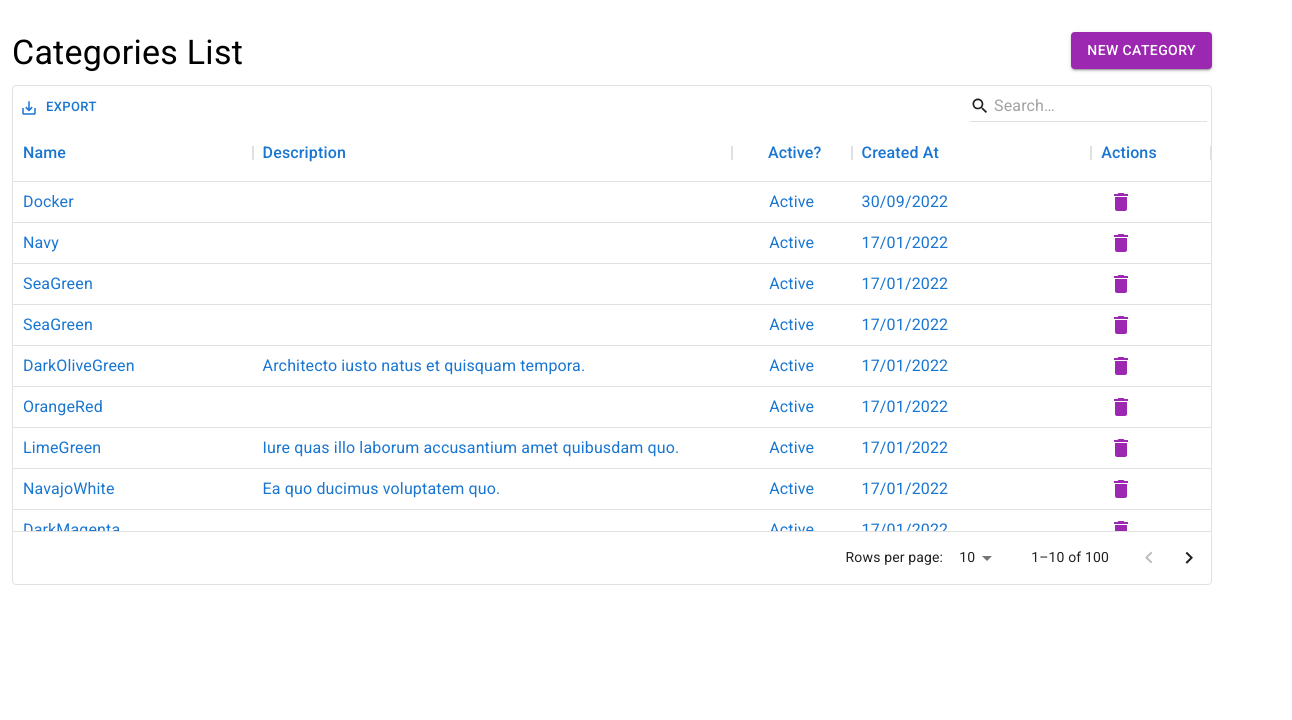
Test case: CategoryList › should handle delete category success
The width and height of the screenshot is (1292, 720).
Expected: the text "Docker" is shown, [23,190,74,214]
Step 1. Click the button with test id "delete-button" in the row of "Docker" → (1121,202), box [1101,182,1141,222]
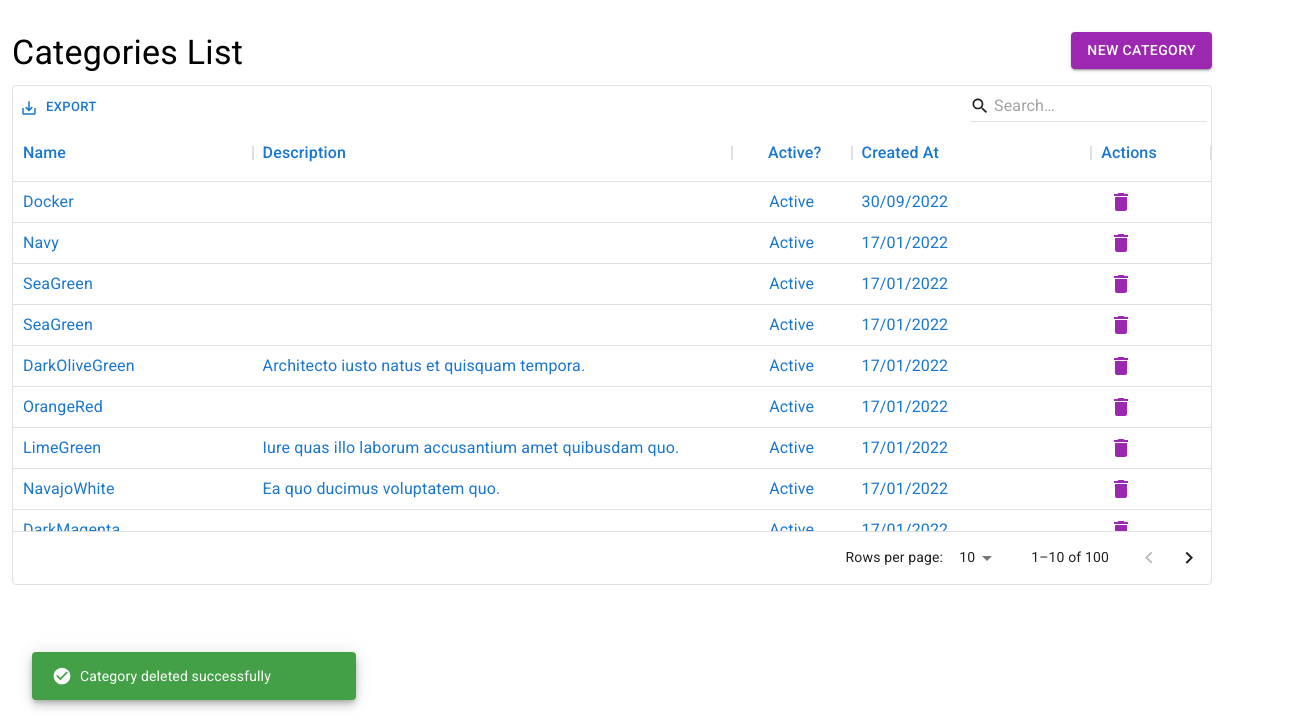
Now the text "Category deleted successfully" is shown, box [52,666,271,686]
